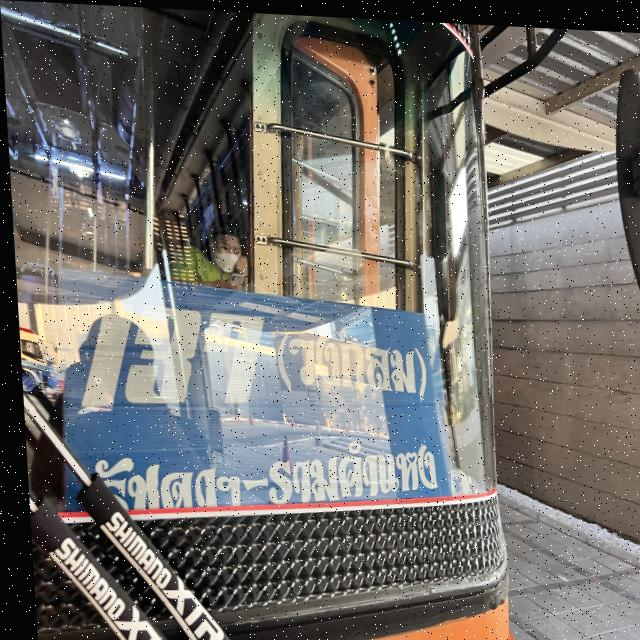BMTA-bus: (0, 0, 520, 640)
Destination-Sign-Normal: (54, 271, 447, 532)
